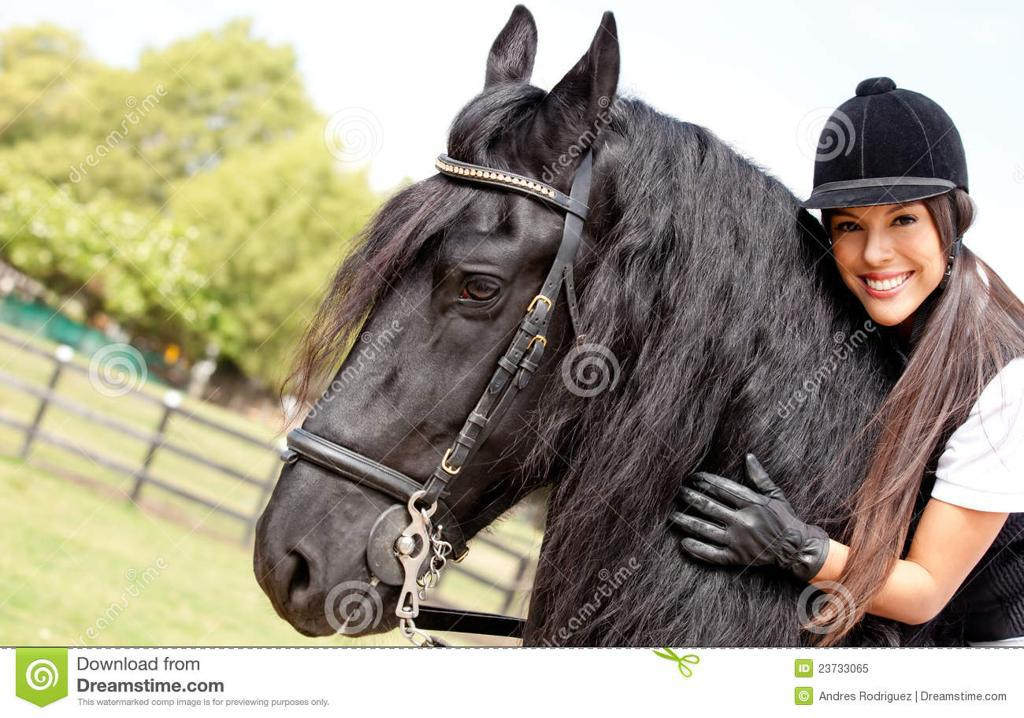face: (833, 161, 943, 315)
